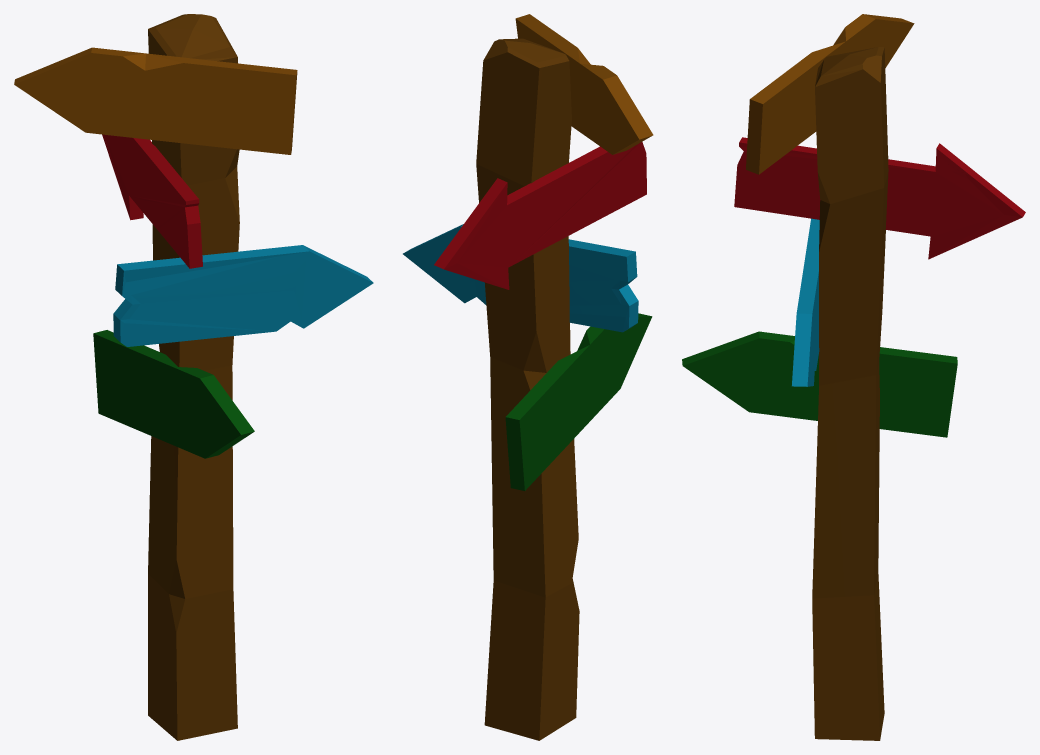
Rendered from wegweiser.fbx.
3 renders of one model, left to right at view 1: azimuth 30°, elevation 25°; view 2: azimuth 150°, elevation 25°; view 3: azimuth 270°, elevation 25°, orthographic. The views are drawn at different scales.
Parts seen in each view (by area): view 1: SM_Prop_RoadSign_01; view 2: SM_Prop_RoadSign_01; view 3: SM_Prop_RoadSign_01.
Part boxes in pixels (bbox=[...]): SM_Prop_RoadSign_01: bbox=[14, 14, 373, 740]; SM_Prop_RoadSign_01: bbox=[403, 14, 653, 740]; SM_Prop_RoadSign_01: bbox=[682, 14, 1025, 740].
Bounding box in the file's own units: 1177 × 538 × 542.
